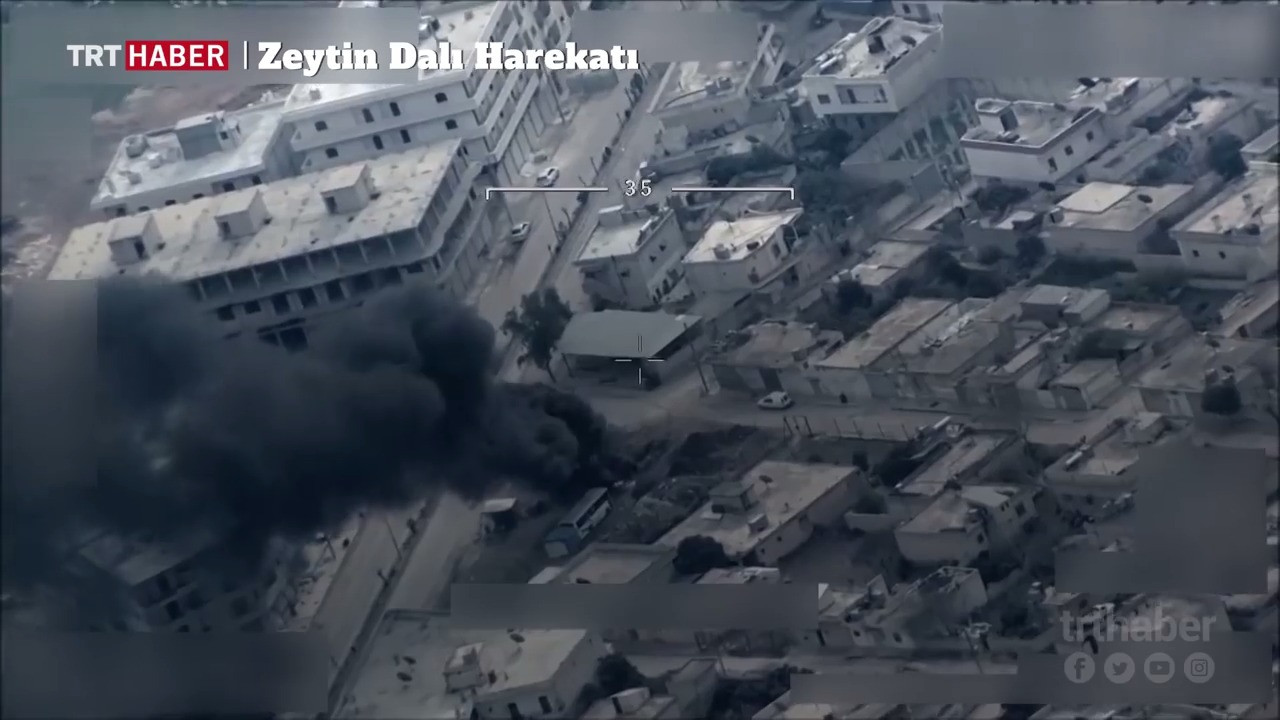arac: (559, 480, 621, 536), (745, 385, 802, 414), (507, 219, 536, 249), (531, 161, 563, 186)
bina: (569, 183, 689, 320), (545, 301, 714, 383)
